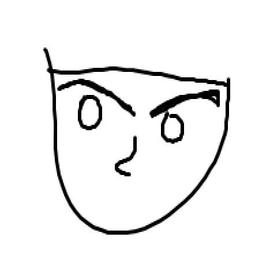empty_eye: (75, 94, 108, 132), (159, 111, 188, 147)
frowning_eyebrow: (58, 74, 138, 118), (147, 84, 220, 120)
nose: (111, 132, 145, 178)
